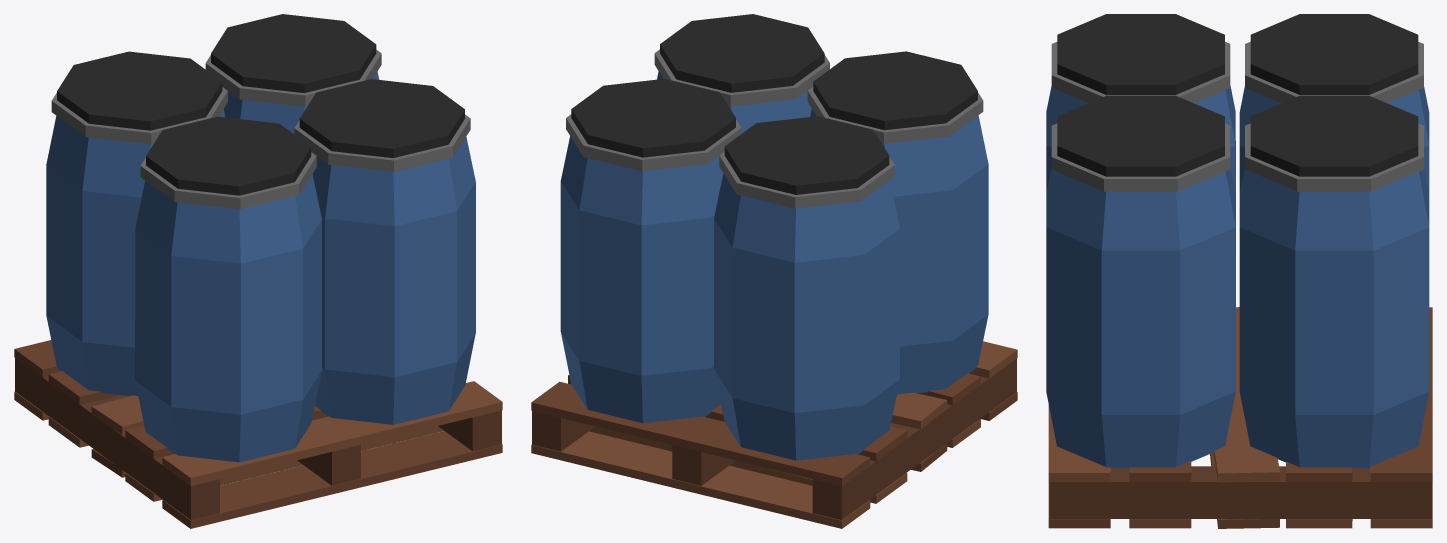
The model's file is Pallet_02.fbx.
3 renders of one model, left to right at view 1: azimuth 30°, elevation 25°; view 2: azimuth 150°, elevation 25°; view 3: azimuth 270°, elevation 25°, orthographic. The views are drawn at different scales.
Parts seen in each view (by area): view 1: Pallet_02; view 2: Pallet_02; view 3: Pallet_02.
Boxes of the visible parts, <box> form: Pallet_02: <box>14,14,502,528</box>; Pallet_02: <box>531,14,1017,528</box>; Pallet_02: <box>1046,14,1432,528</box>.
Bounding box in the file's own units: 101 × 101 × 98.98.
